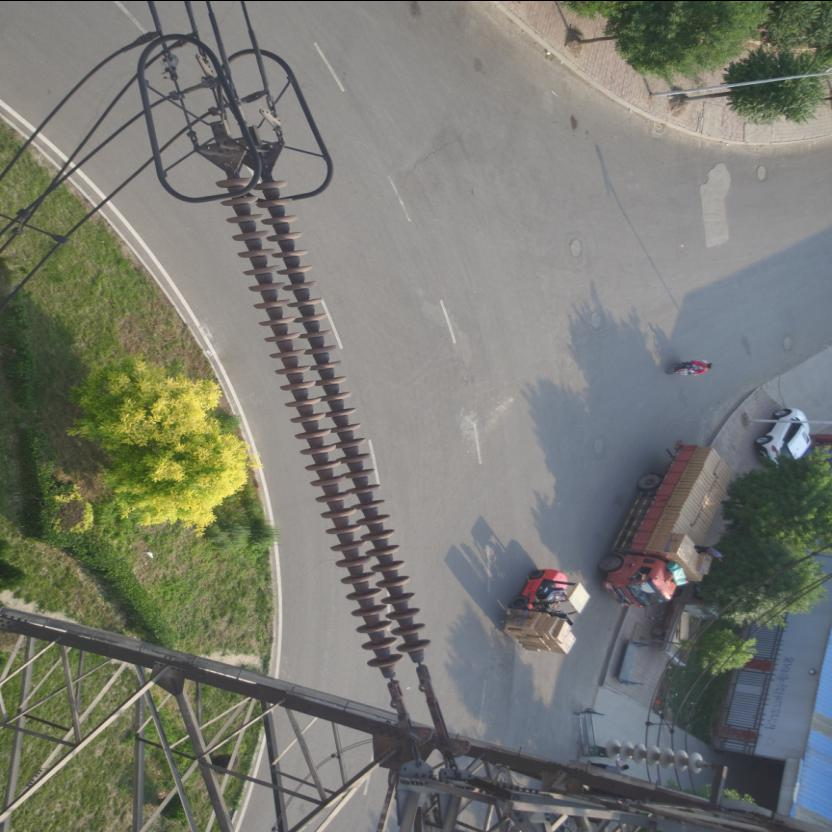insulator: (212, 158, 439, 707)
